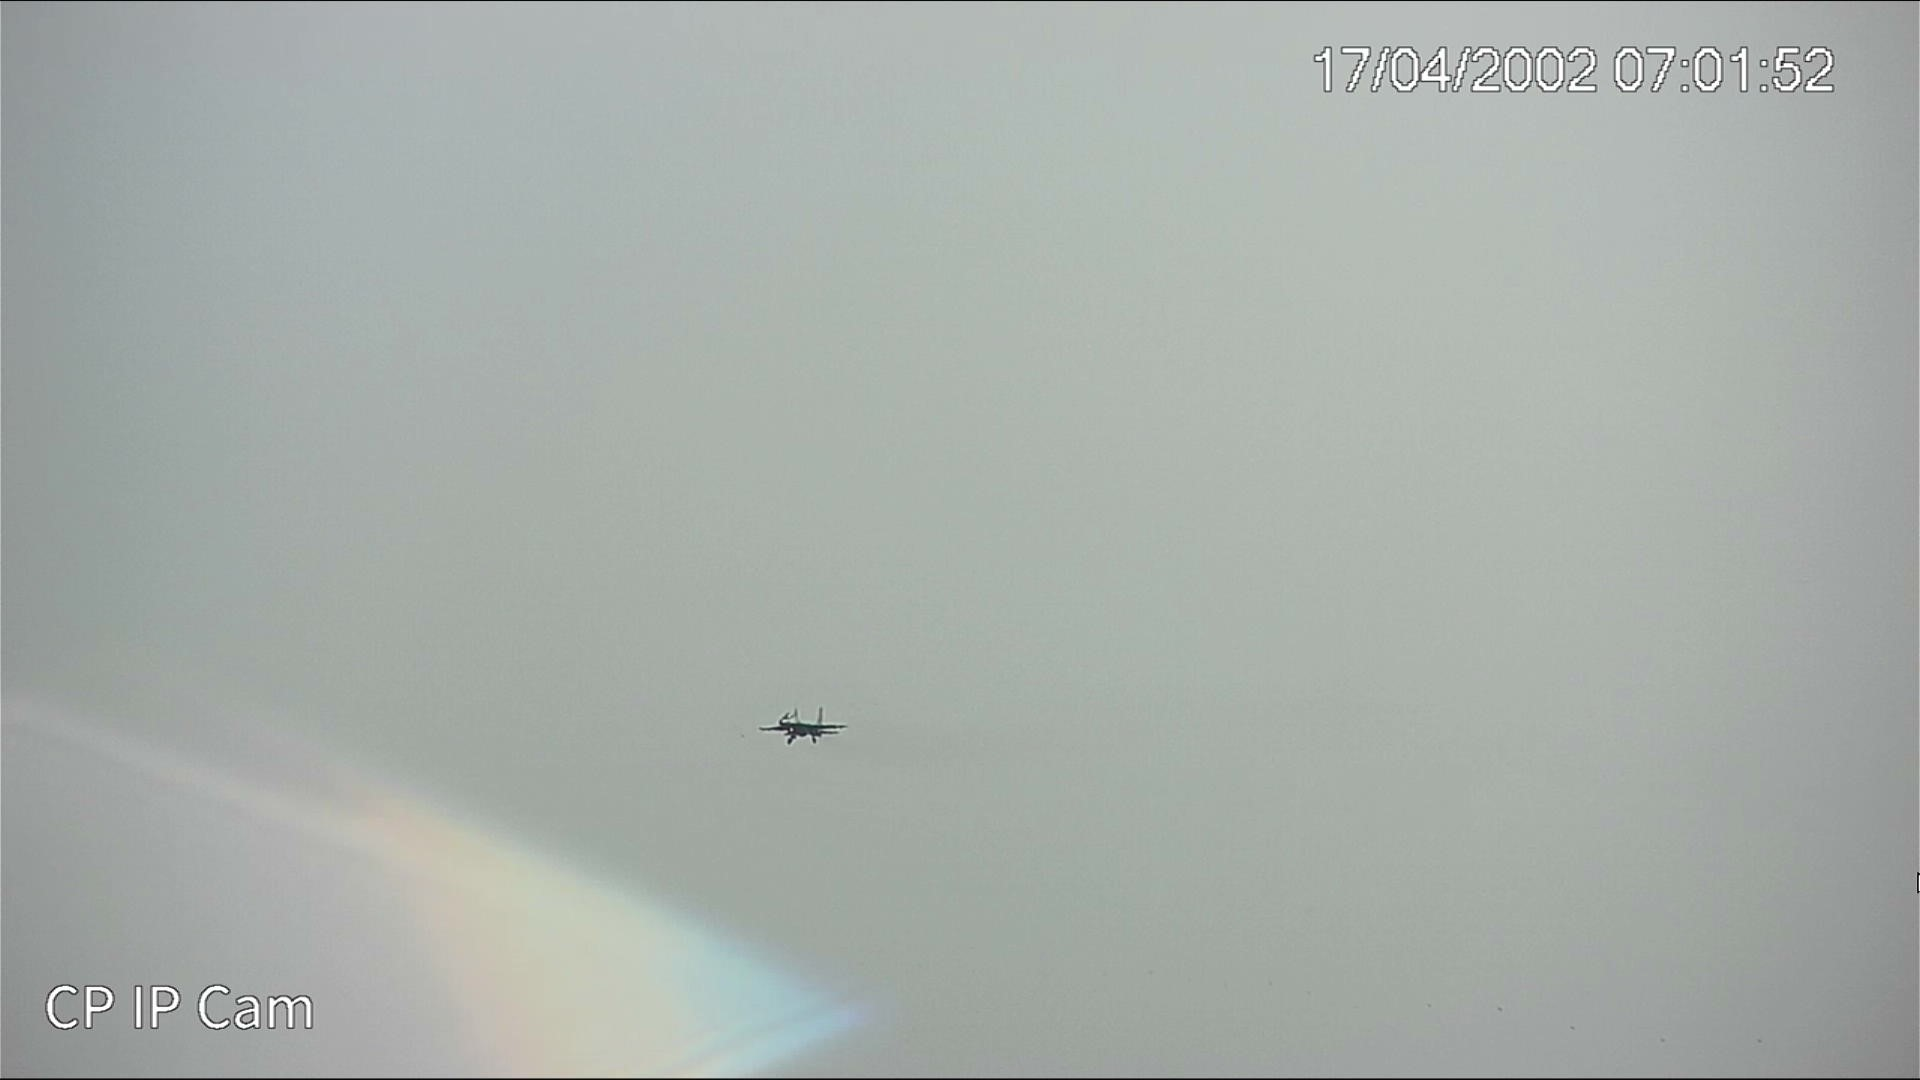SU_30: (758, 705, 845, 746)
